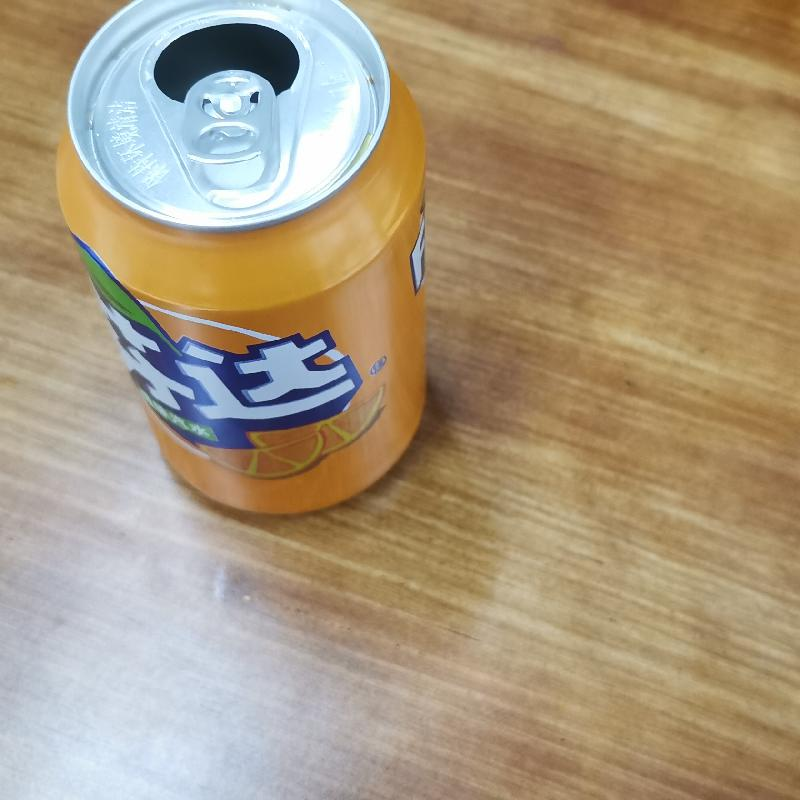cans: (49, 0, 434, 520)
